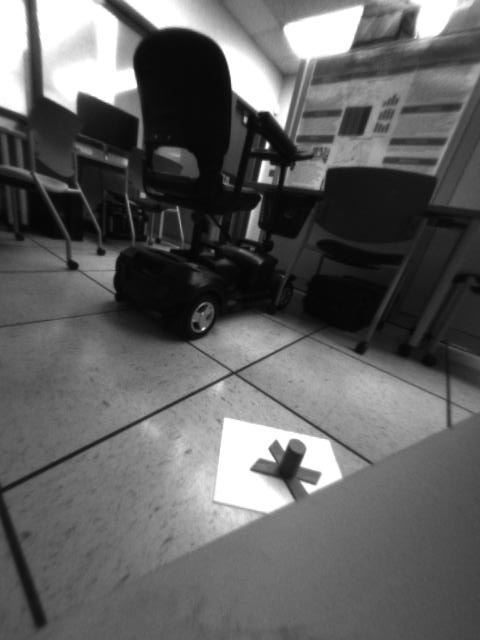X: (251, 436, 321, 507)
